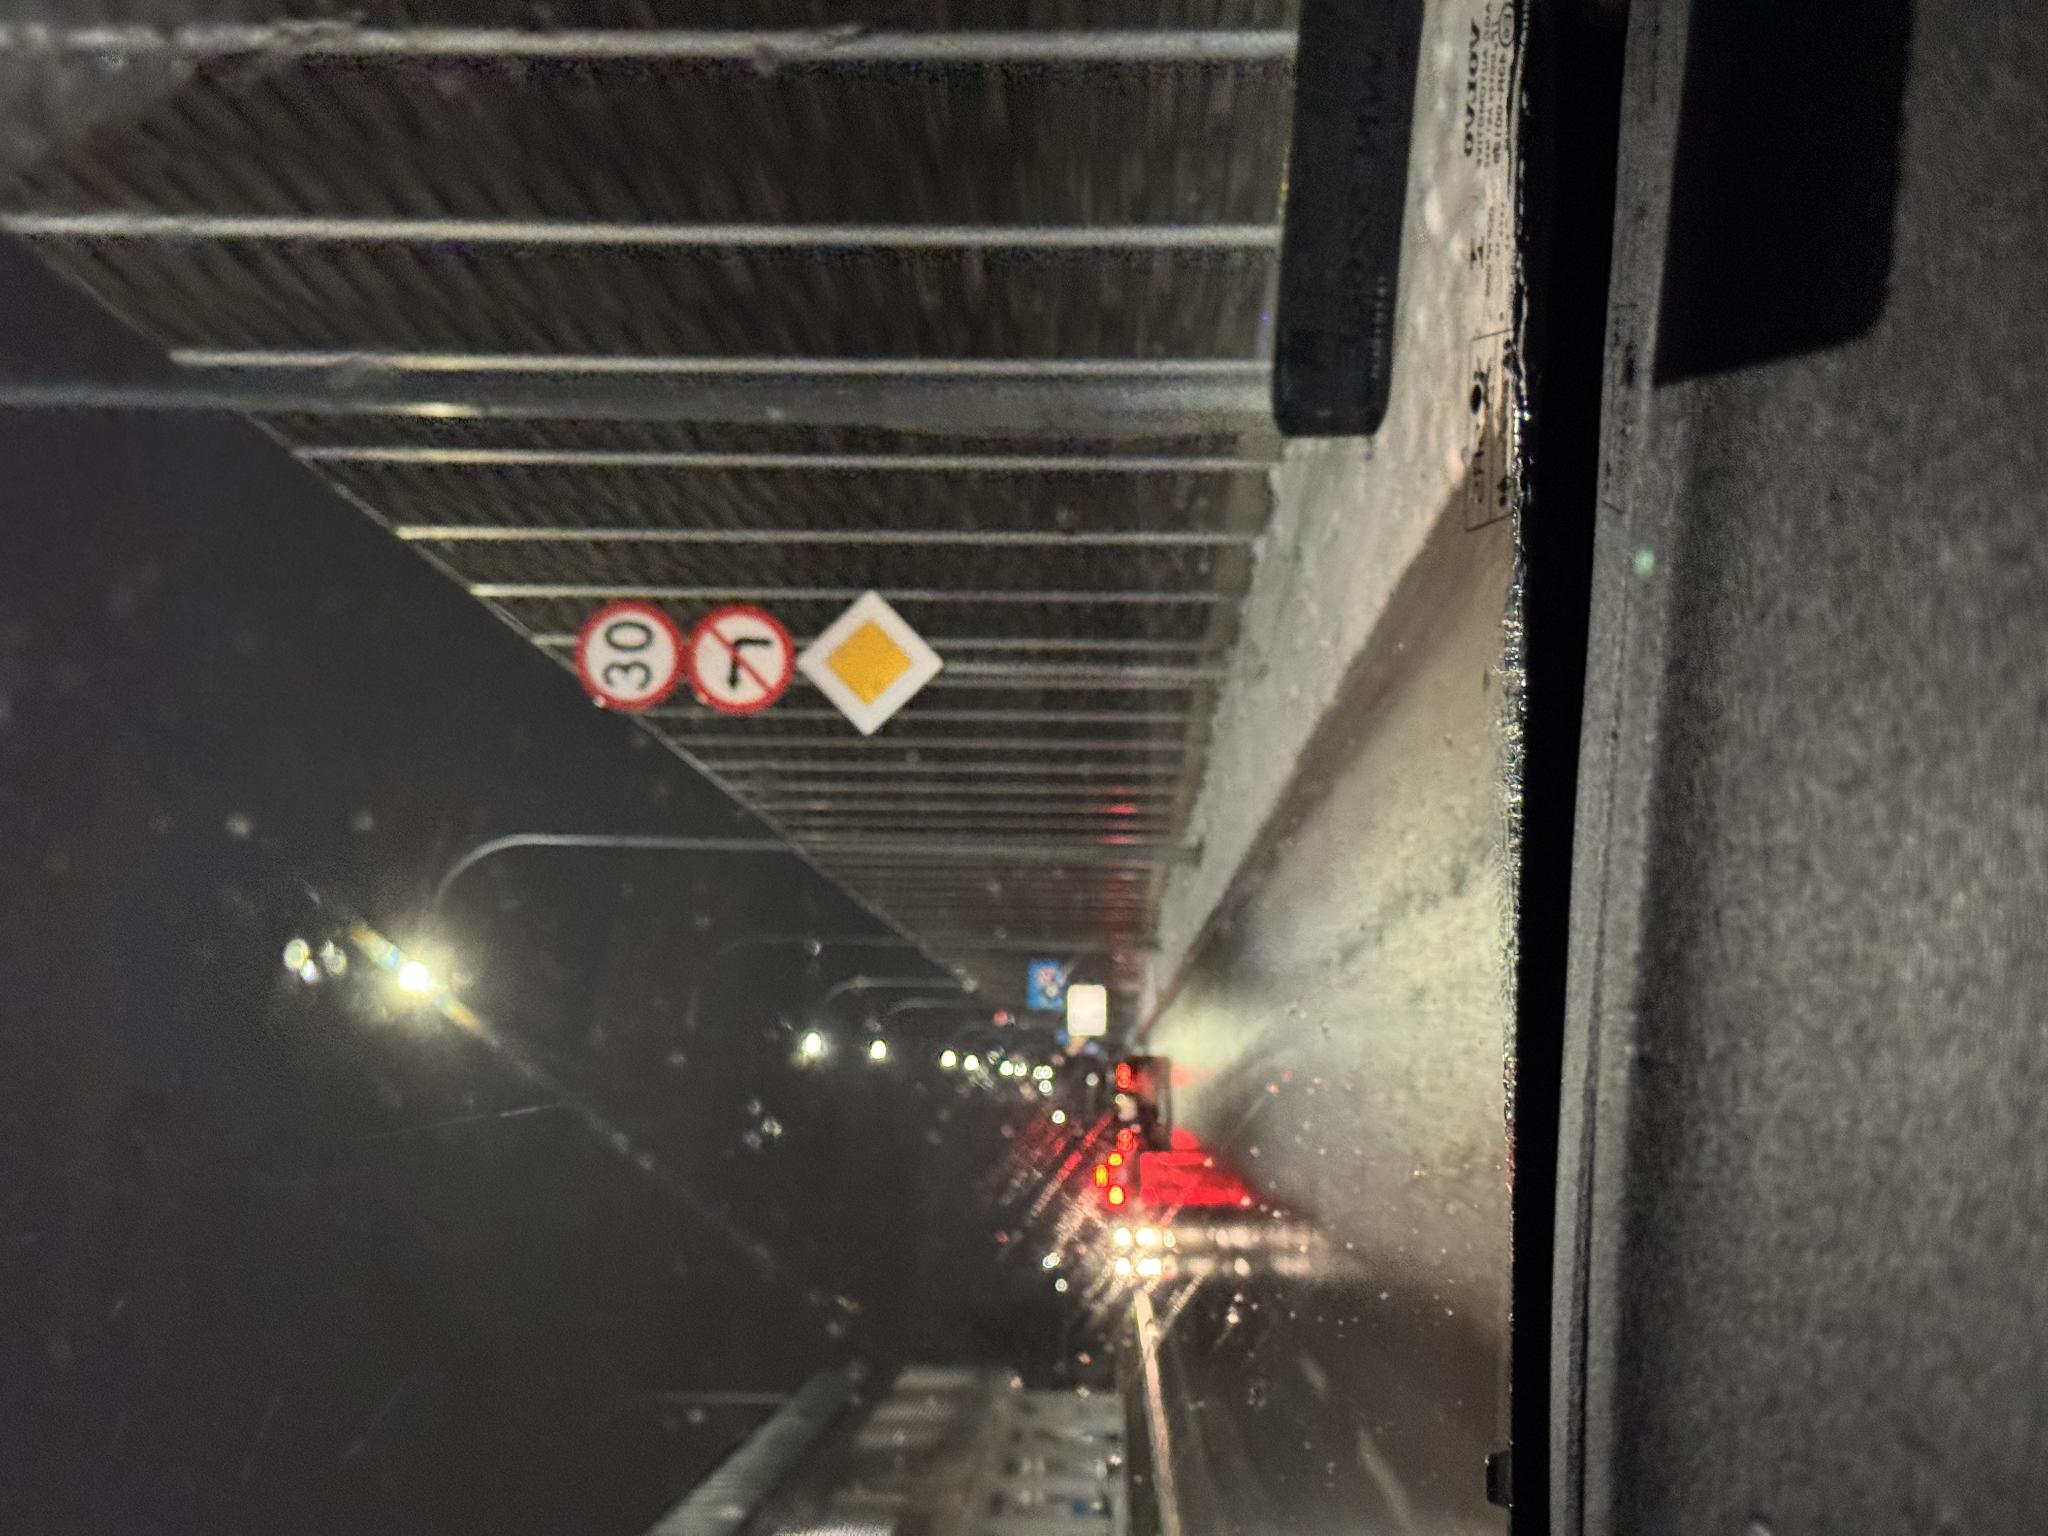information: (798, 797, 948, 944)
prohibitory: (824, 573, 937, 686), (819, 684, 932, 795)
